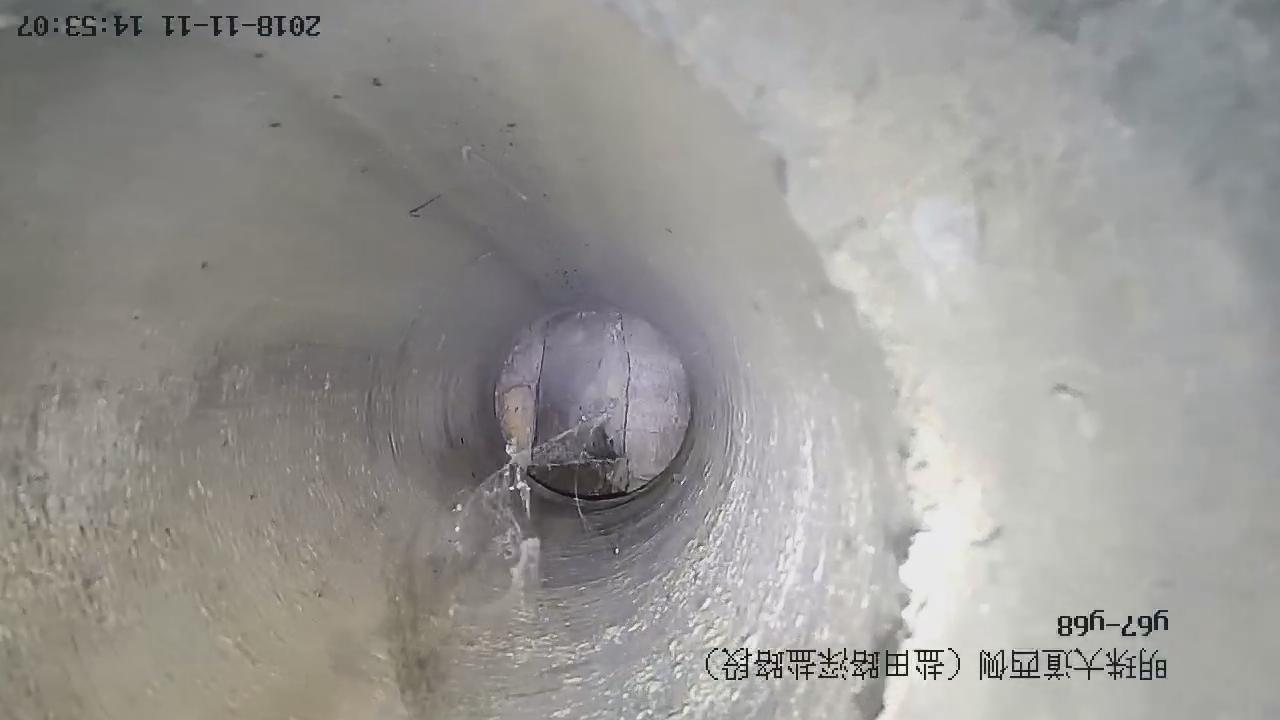CQBG: (494, 310, 690, 495)
